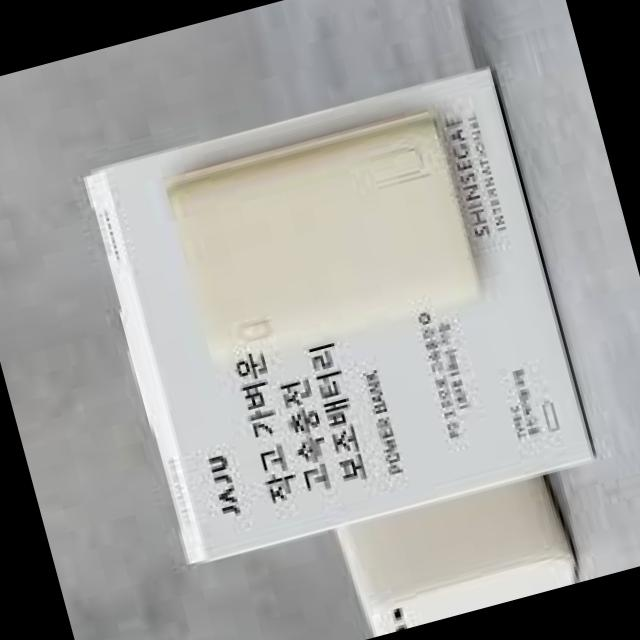power_bank: (160, 108, 480, 360), (342, 464, 580, 636)
